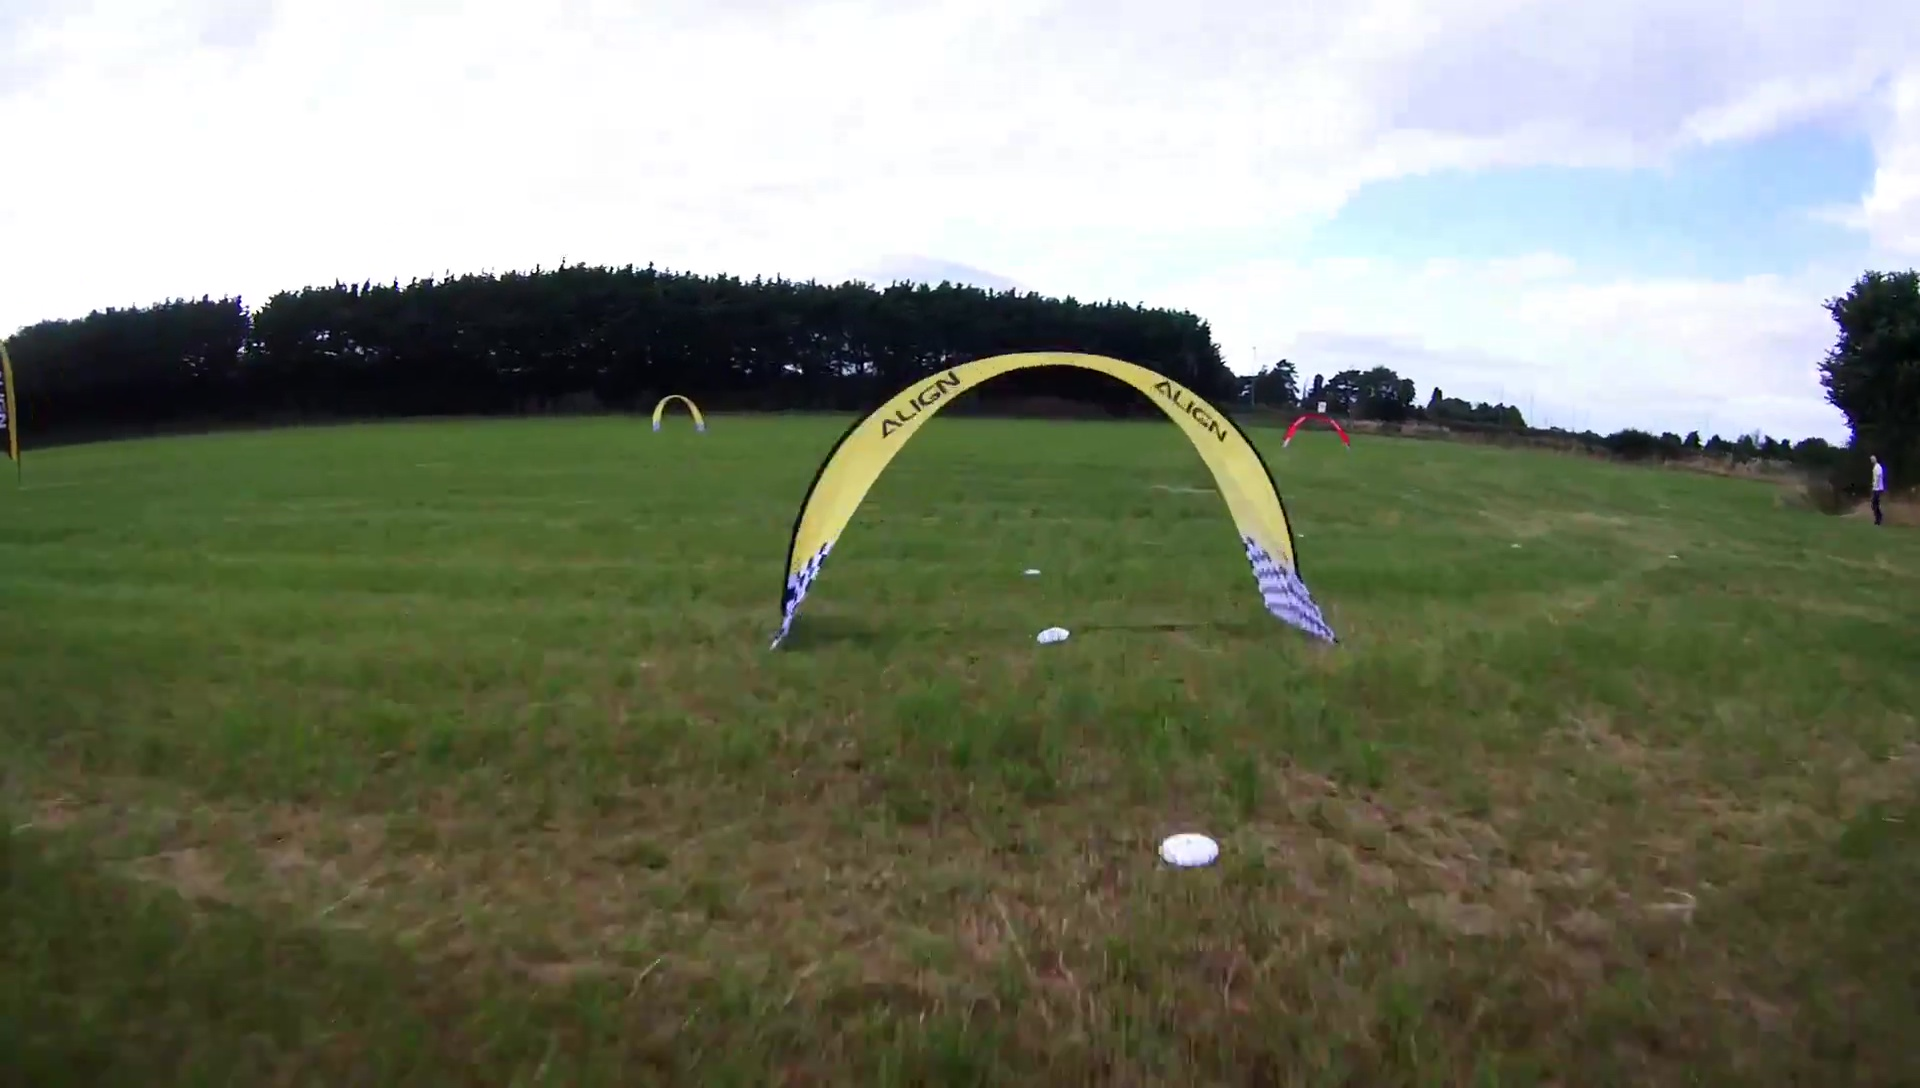gate: (770, 346, 1346, 648), (1280, 410, 1356, 448), (651, 393, 709, 433)
